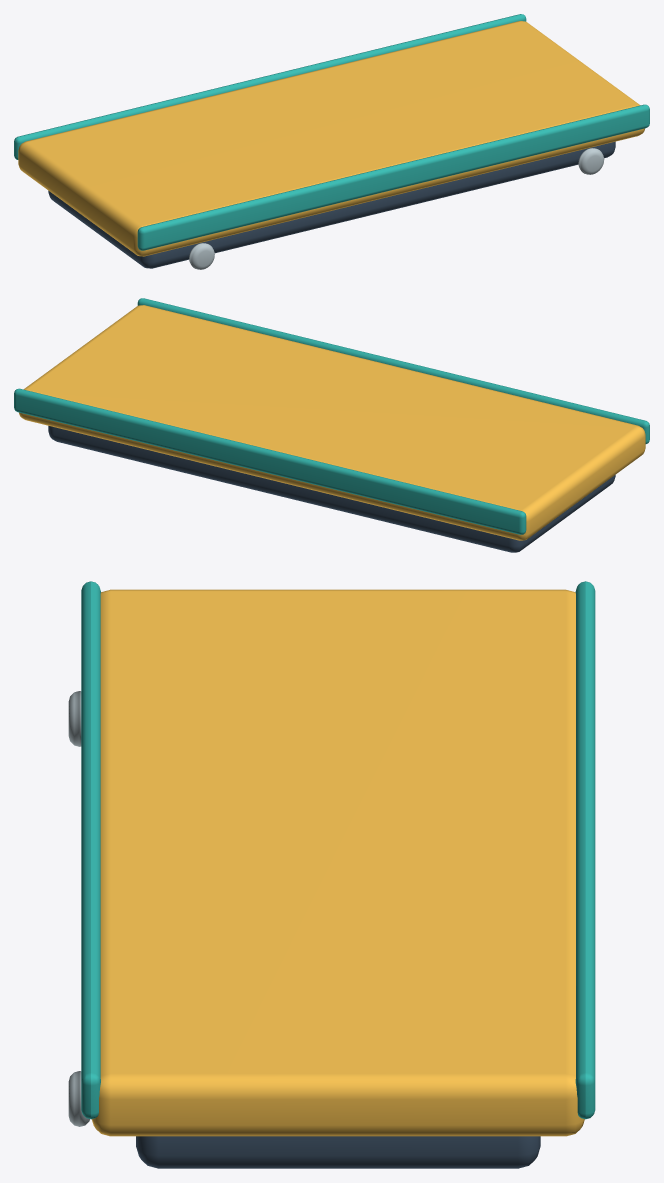
Rendered from ramp.glb.
3 renders of one model, top to bottom at view 1: azimuth 30°, elevation 25°; view 2: azimuth 150°, elevation 25°; view 3: azimuth 270°, elevation 25°, orthographic. The views are drawn at different scales.
Visible parts, largest first — view 1: Ramp contact surface, Batch Teal enamel, Ramp underside, Batch Brushed steel; view 2: Ramp contact surface, Batch Teal enamel, Ramp underside; view 3: Ramp contact surface, Batch Teal enamel, Ramp underside, Batch Brushed steel.
Boxes of the visible parts, x1,y1,x2,y2 form: Ramp contact surface: [18, 21, 644, 256]; Batch Teal enamel: [14, 14, 649, 250]; Ramp underside: [48, 141, 615, 268]; Batch Brushed steel: [189, 148, 604, 269]; Ramp contact surface: [19, 305, 645, 540]; Batch Teal enamel: [14, 298, 649, 534]; Ramp underside: [48, 426, 615, 552]; Ramp contact surface: [92, 589, 584, 1136]; Batch Teal enamel: [81, 581, 595, 1119]; Ramp underside: [136, 1136, 540, 1168]; Batch Brushed steel: [68, 691, 89, 1126].
Size of the model in its own units: 2.1 by 0.23 by 0.9375.
